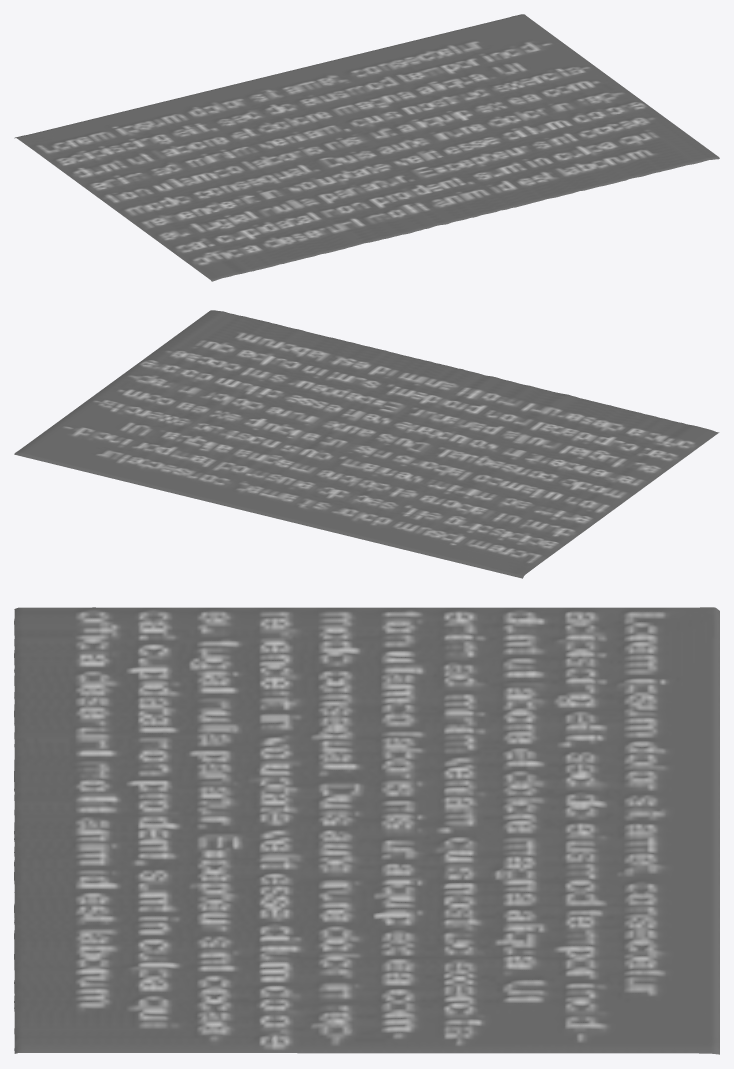
File: simpleUV_NonMax2.obj
The picture shows the model from 3 angles, top to bottom: view 1: azimuth 30°, elevation 25°; view 2: azimuth 150°, elevation 25°; view 3: azimuth 270°, elevation 25°; orthographic projection. The views are drawn at different scales.
Bounding box in the file's own units: 268 × 1.67 × 180.
Materials: 1 (1 with a texture image).
